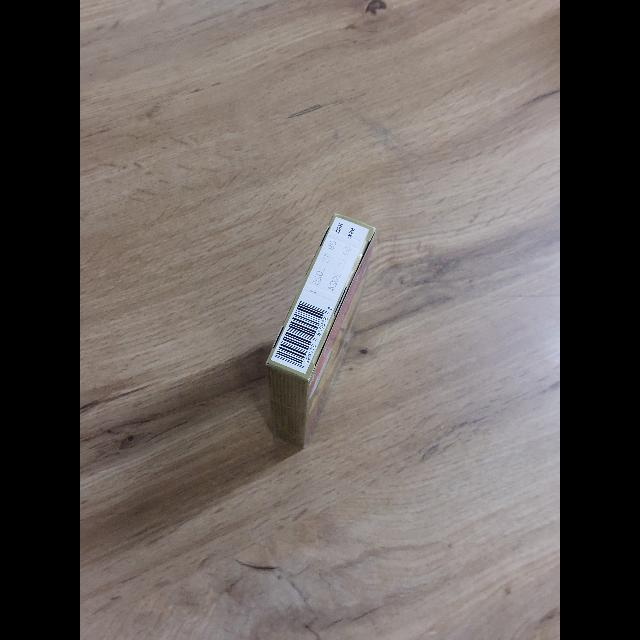banh_toppo_socola: (266, 215, 376, 448)
